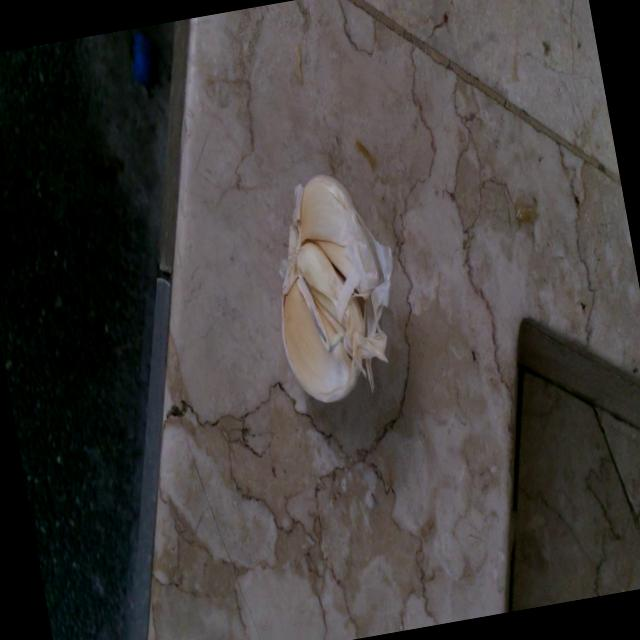bawang: (250, 154, 417, 416)
